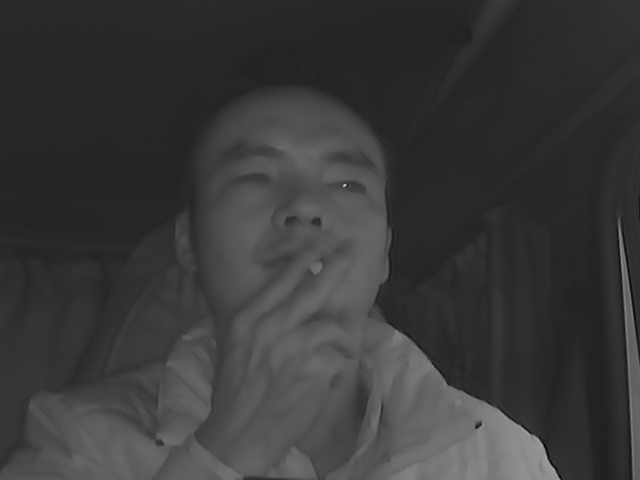hand: (224, 238, 361, 405)
